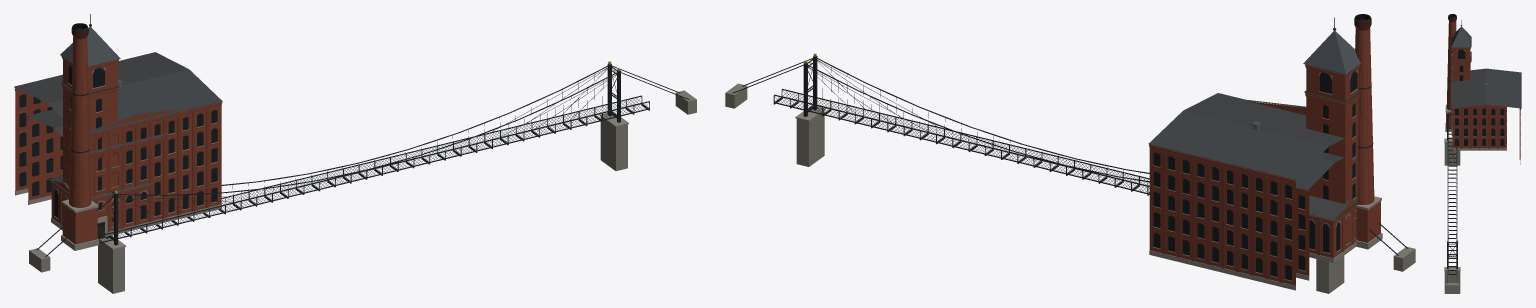
File: riverfront.glb
The picture shows the model from 3 angles, left to right: view 1: azimuth 30°, elevation 25°; view 2: azimuth 150°, elevation 25°; view 3: azimuth 270°, elevation 25°; orthographic projection. The views are drawn at different scales.
Visible parts, largest first — view 1: lw_sec_0, fb_0, lw_ell_0, lw_end_0, lw_stack_0, lw_tower_0, fb_2, lw_boiler_0, lw_end_2, lw_sec_2, lw_ell_2, lw_stack_1 (+2 smaller); view 2: lw_sec_0, fb_0, lw_tower_0, lw_sec_2, lw_stack_0, lw_boiler_0, fb_2, lw_ell_0, lw_tower_2, lw_stack_1, lw_stack_2, lw_boiler_2 (+1 smaller); view 3: lw_sec_0, lw_ell_0, fb_0, lw_tower_0, lw_ell_2, lw_stack_0, fb_2, lw_stack_1, lw_tower_2.
Boxes of the visible parts, left/top/right/bottom form: lw_sec_0: left=14, top=52, right=222, bottom=233; fb_0: left=29, top=61, right=696, bottom=293; lw_ell_0: left=27, top=109, right=168, bottom=235; lw_end_0: left=89, top=107, right=194, bottom=235; lw_stack_0: left=61, top=23, right=99, bottom=250; lw_tower_0: left=60, top=14, right=120, bottom=238; fb_2: left=36, top=61, right=689, bottom=256; lw_boiler_0: left=48, top=176, right=153, bottom=235; lw_end_2: left=98, top=117, right=188, bottom=222; lw_sec_2: left=98, top=110, right=217, bottom=212; lw_ell_2: left=98, top=144, right=160, bottom=222; lw_stack_1: left=69, top=27, right=91, bottom=207; lw_sec_0: left=1148, top=93, right=1354, bottom=290; fb_0: left=725, top=53, right=1415, bottom=293; lw_tower_0: left=1303, top=17, right=1360, bottom=249; lw_sec_2: left=1153, top=153, right=1291, bottom=280; lw_stack_0: left=1354, top=14, right=1382, bottom=249; lw_boiler_0: left=1309, top=195, right=1359, bottom=262; fb_2: left=732, top=53, right=1408, bottom=255; lw_ell_0: left=1296, top=152, right=1354, bottom=280; lw_tower_2: left=1319, top=71, right=1357, bottom=199; lw_stack_1: left=1355, top=17, right=1374, bottom=204; lw_stack_2: left=1354, top=16, right=1374, bottom=204; lw_boiler_2: left=1309, top=220, right=1339, bottom=252; lw_sec_0: left=1451, top=68, right=1521, bottom=164; lw_ell_0: left=1453, top=104, right=1506, bottom=150; fb_0: left=1444, top=112, right=1460, bottom=293; lw_tower_0: left=1451, top=20, right=1471, bottom=135; lw_ell_2: left=1455, top=108, right=1504, bottom=146; lw_stack_0: left=1445, top=14, right=1456, bottom=131; fb_2: left=1447, top=112, right=1457, bottom=283; lw_stack_1: left=1447, top=17, right=1455, bottom=110; lw_tower_2: left=1458, top=49, right=1465, bottom=80.
Size of the model in its own units: 146 by 57.4 by 28.55.
